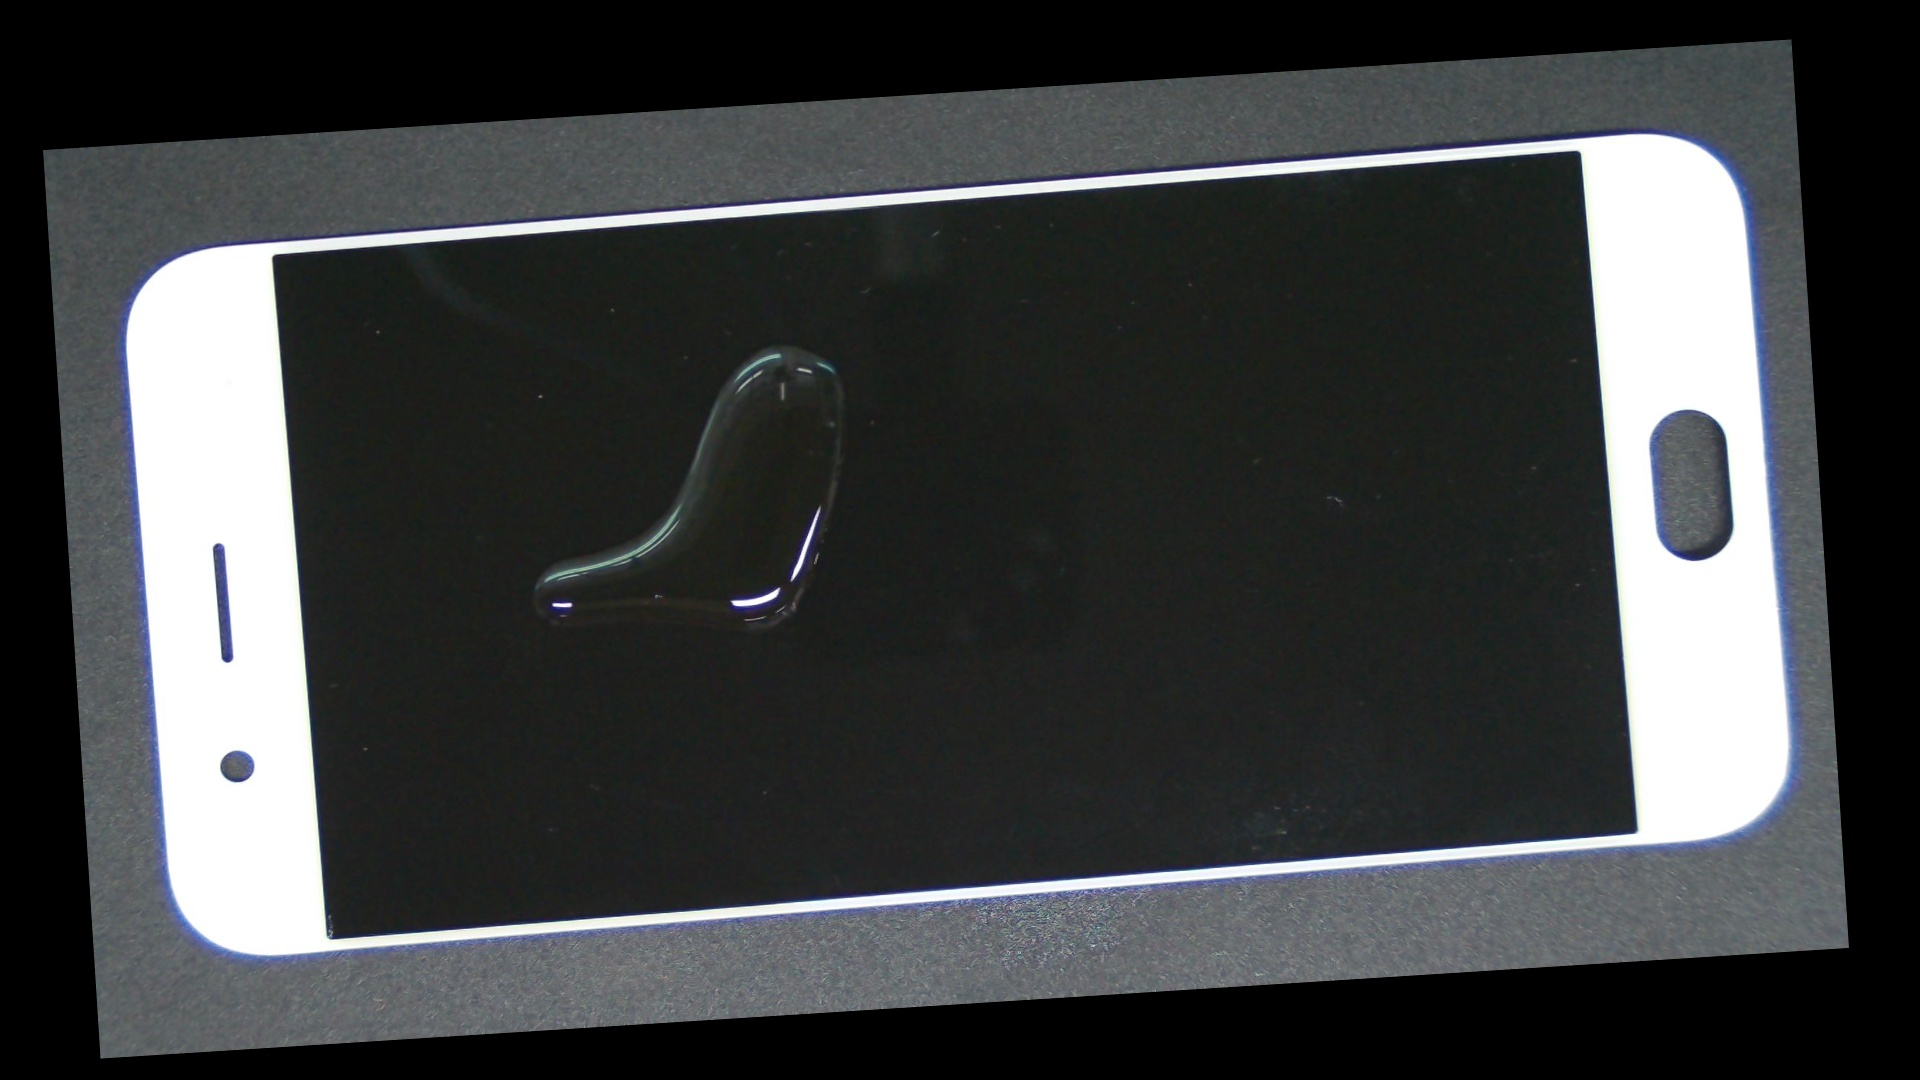oil: (410, 202, 1142, 488)
